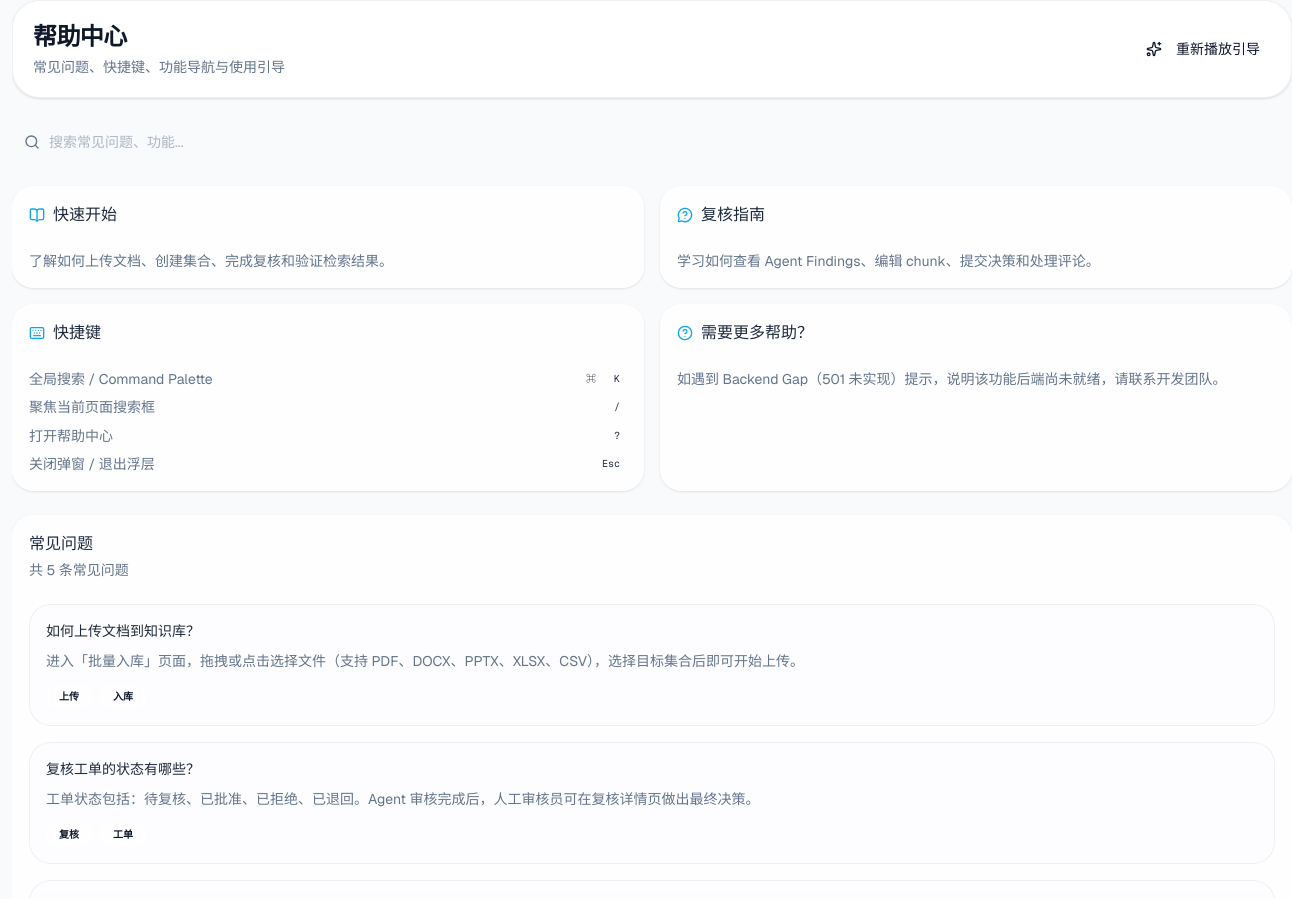
Test: HelpPage › filters faqs by search query
The image size is (1292, 899).
In the field with placeholder "搜索常见问题、功能...": (300, 142) [12,122,588,162], type "回收站"
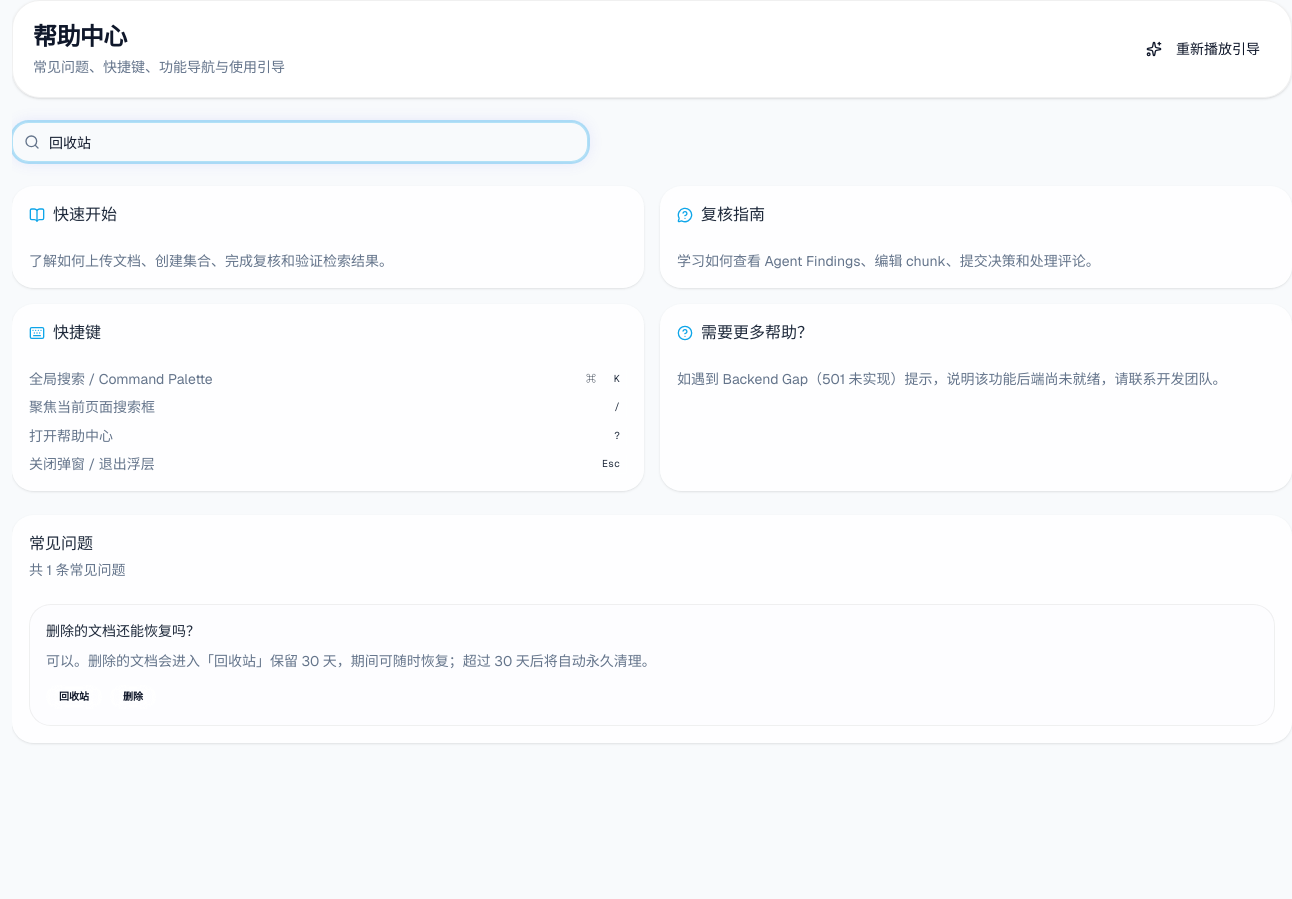
Expected: the text "删除的文档还能恢复吗？" is shown, [46,622,200,640]
Expected: the text "如何上传文档到知识库？" is gone
